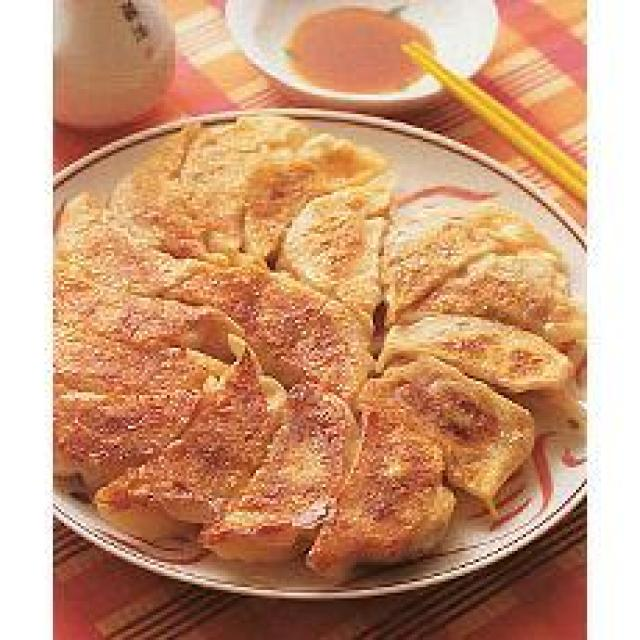带馅早点: (28, 137, 595, 570)
